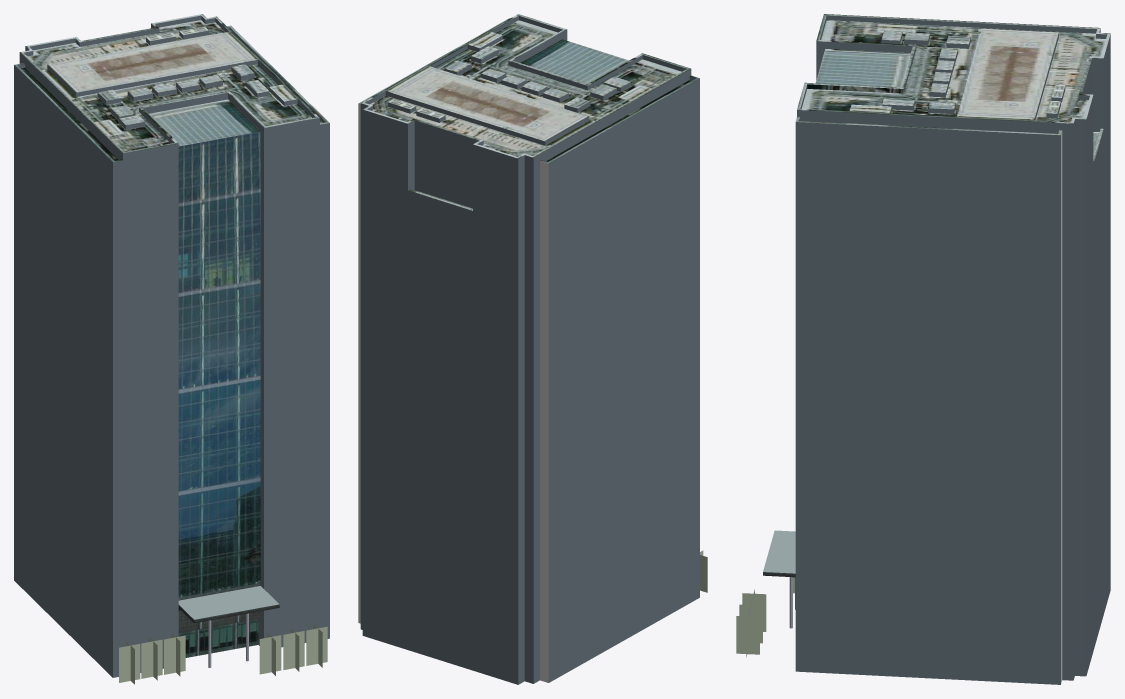
Rendered from Unbenannt Barclays.fbx.
3 renders of one model, left to right at view 1: azimuth 30°, elevation 25°; view 2: azimuth 150°, elevation 25°; view 3: azimuth 270°, elevation 25°, orthographic. The views are drawn at different scales.
Parts seen in each view (by area): view 1: Model, Tree4, Tree2, Tree6, Tree5, Tree3, Tree1; view 2: Model; view 3: Model, Tree6.
Part boxes in pixels (box(x1,y1,x2,y2)): Model: box(14, 14, 329, 677); Tree4: box(259, 633, 281, 675); Tree2: box(141, 637, 162, 680); Tree6: box(306, 624, 327, 667); Tree5: box(283, 628, 304, 671); Tree3: box(164, 633, 185, 676); Tree1: box(119, 641, 140, 684); Model: box(358, 14, 699, 684); Model: box(763, 14, 1110, 684); Tree6: box(736, 611, 759, 657).
Size of the model in its own units: 72.23 by 157 by 95.75.
